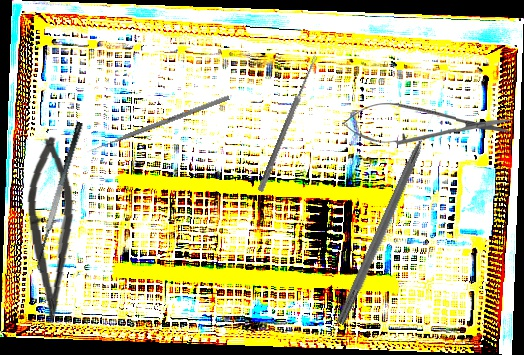Hook Surgical: (334, 112, 441, 327)
Micro Scissor: (23, 135, 81, 324), (341, 101, 513, 148)
Pusher: (86, 94, 230, 155)
Spatula Surgical: (28, 121, 96, 274)
Surgical Spoon: (257, 54, 319, 193)
